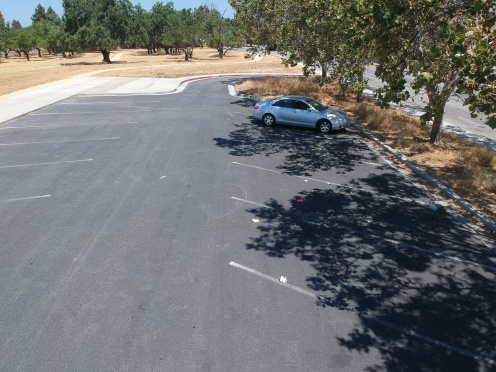plastic bag: (277, 273, 293, 288), (292, 196, 307, 205)
